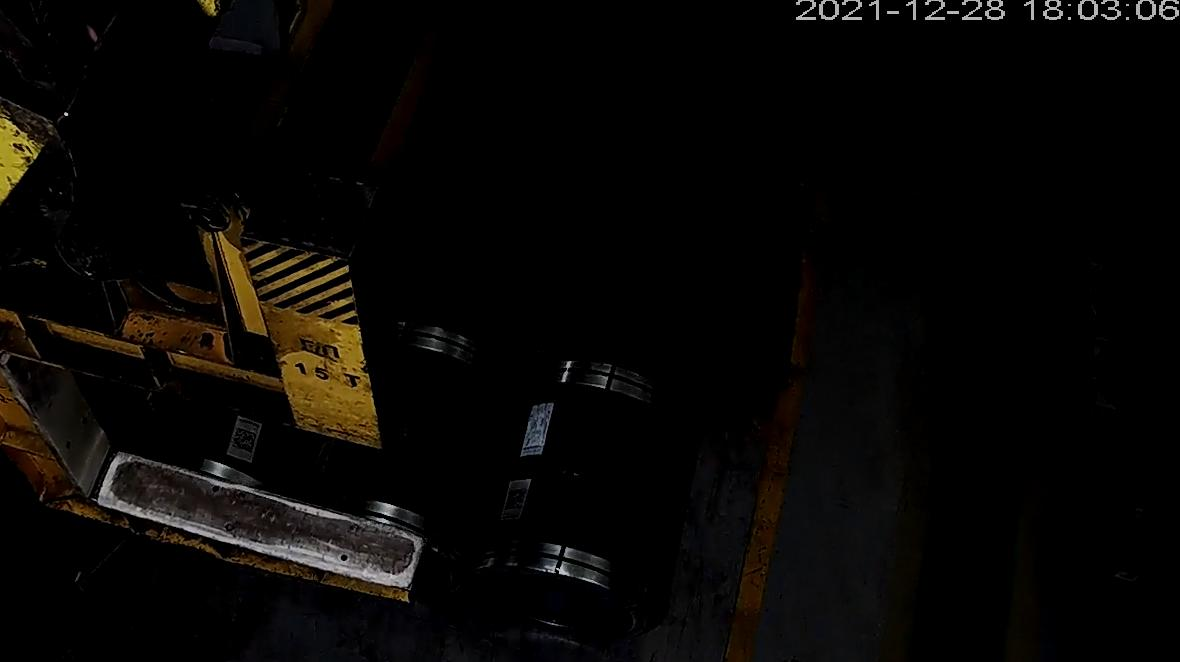data matrix: (229, 426, 261, 457), (503, 486, 532, 514)
